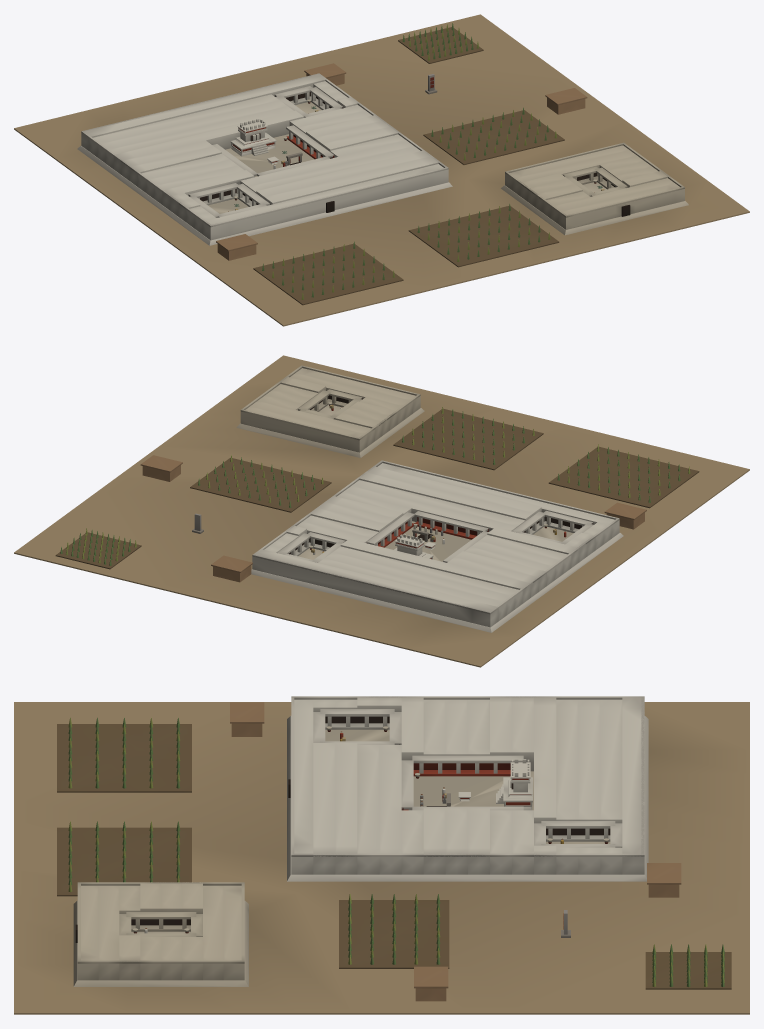
File: oaxaca-barrio.glb
3 renders of one model, top to bottom at view 1: azimuth 30°, elevation 25°; view 2: azimuth 150°, elevation 25°; view 3: azimuth 270°, elevation 25°, orthographic. The views are drawn at different scales.
Parts seen in each view (by area): view 1: p0_ground, p1_compounds, p2_people; view 2: p0_ground, p1_compounds, p2_people; view 3: p0_ground, p1_compounds, p2_people.
Boxes of the visible parts, x1,y1,x2,y2 form: p0_ground: (14, 14, 749, 326); p1_compounds: (77, 73, 688, 245); p2_people: (216, 23, 587, 305); p0_ground: (14, 355, 749, 667); p1_compounds: (236, 365, 623, 632); p2_people: (55, 406, 699, 582); p0_ground: (14, 702, 749, 1014); p1_compounds: (73, 696, 648, 986); p2_people: (57, 702, 731, 1001).
Size of the model in its own units: 120 by 7.34 by 120.
